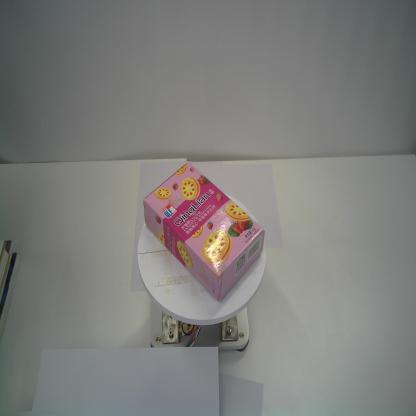Dessert: (142, 160, 267, 303)
